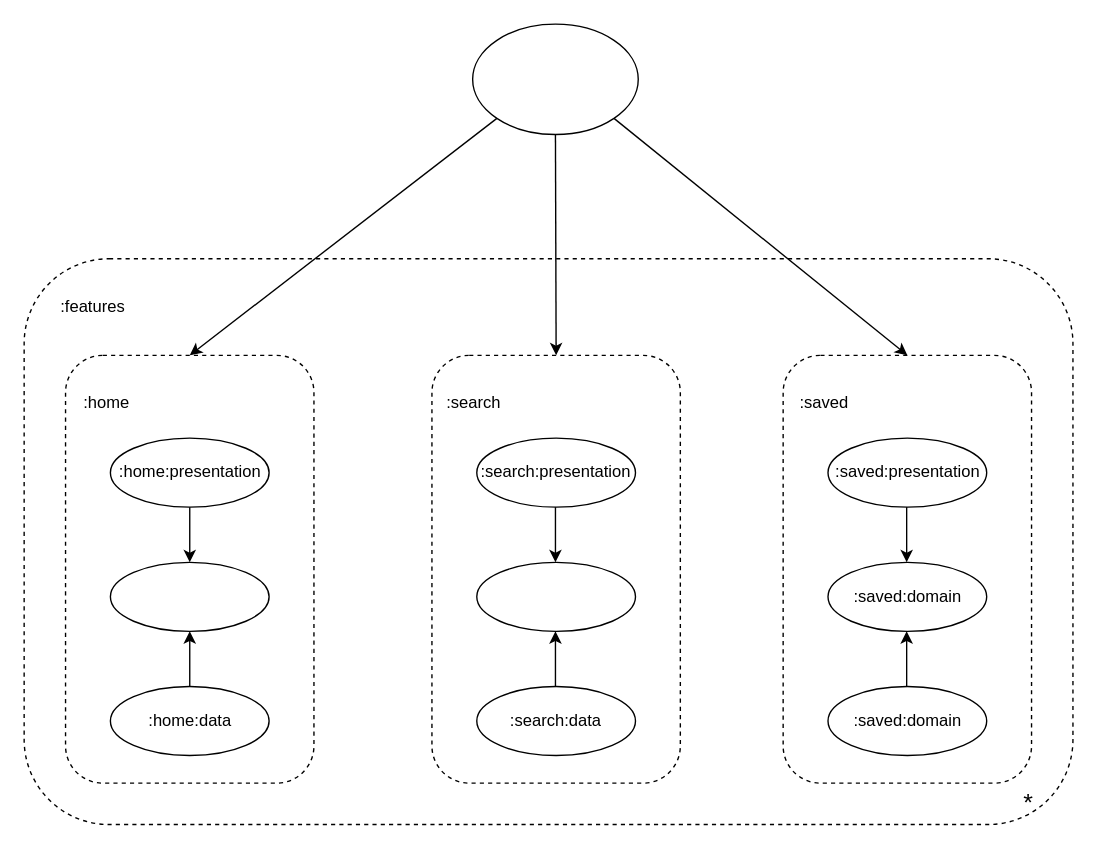
The diagram is 1097 pixels wide and 849 high, and some of its shapes have lost their labels. The centre of each missing label's shape, as x and y in pixels:
:app: point (554, 79)
:home:domain: point (189, 596)
:search:domain: point (555, 596)
